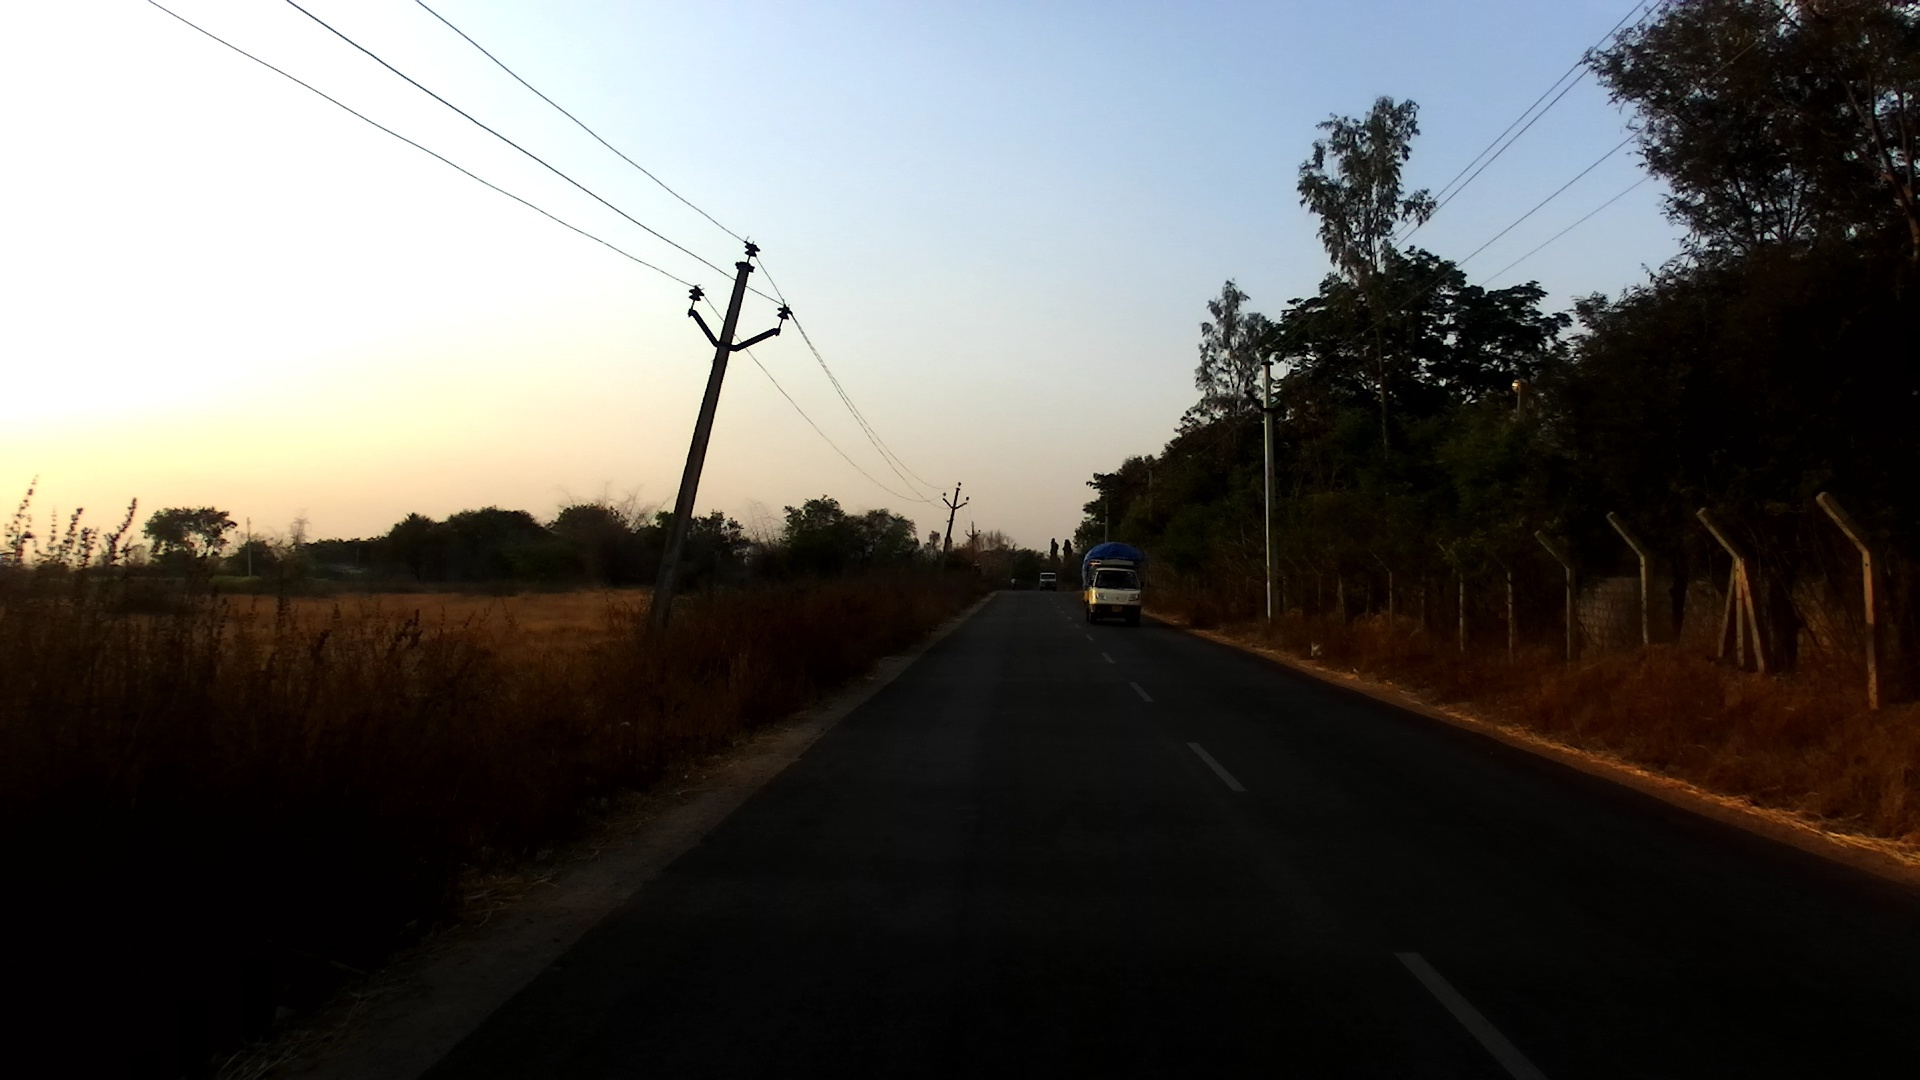autorickshaw: (1079, 543, 1146, 630)
bicycle: (1011, 582, 1020, 591)
car: (1038, 572, 1058, 588)
rider: (1010, 574, 1017, 588)
